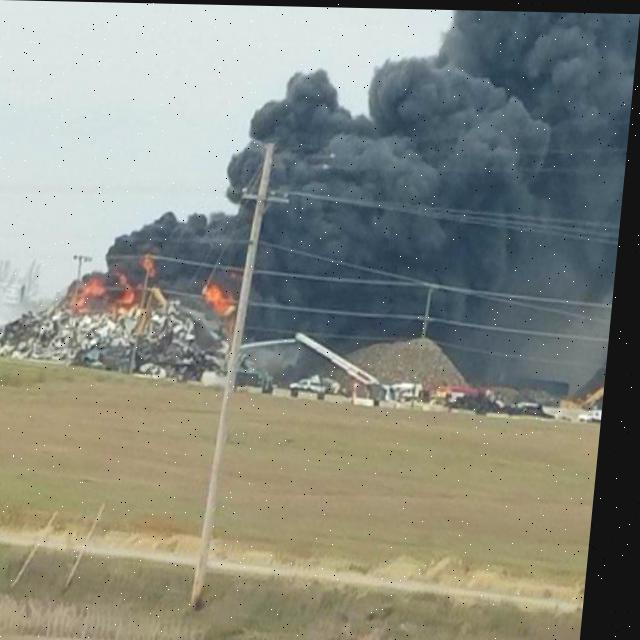Fire: (84, 251, 150, 312), (199, 268, 252, 330)
